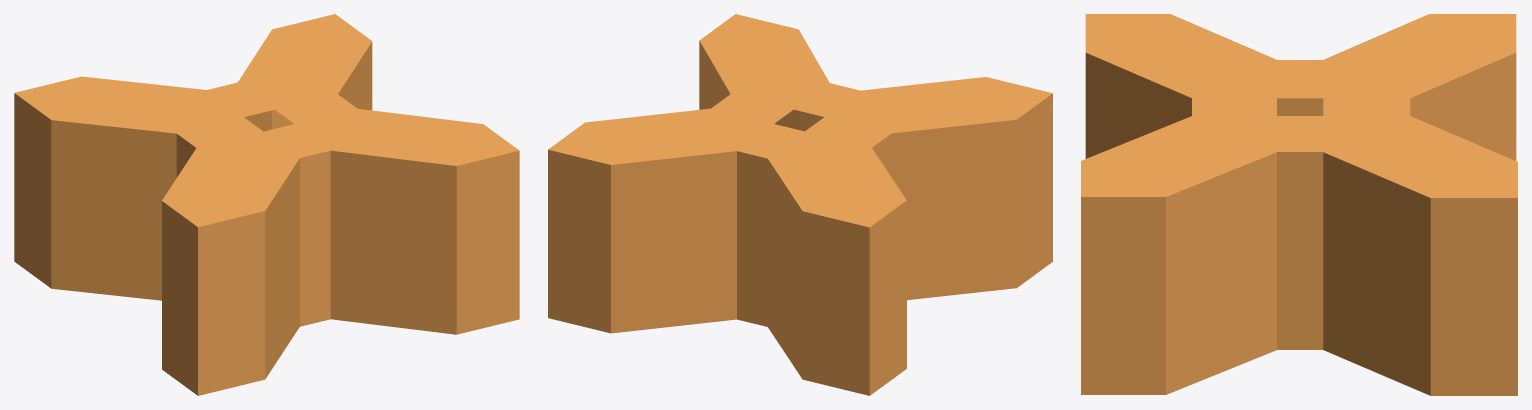
Rendered from Star_Bead.fbx.
The picture shows the model from 3 angles, left to right: view 1: azimuth 30°, elevation 25°; view 2: azimuth 150°, elevation 25°; view 3: azimuth 270°, elevation 25°; orthographic projection. The views are drawn at different scales.
Parts seen in each view (by area): view 1: pCube1; view 2: pCube1; view 3: pCube1.
Part boxes in pixels (x1,y1,x2,y2): pCube1: [14, 14, 519, 395]; pCube1: [548, 14, 1052, 395]; pCube1: [1081, 14, 1517, 395].
Bounding box in the file's own units: 19.73 × 9.89 × 19.79.
